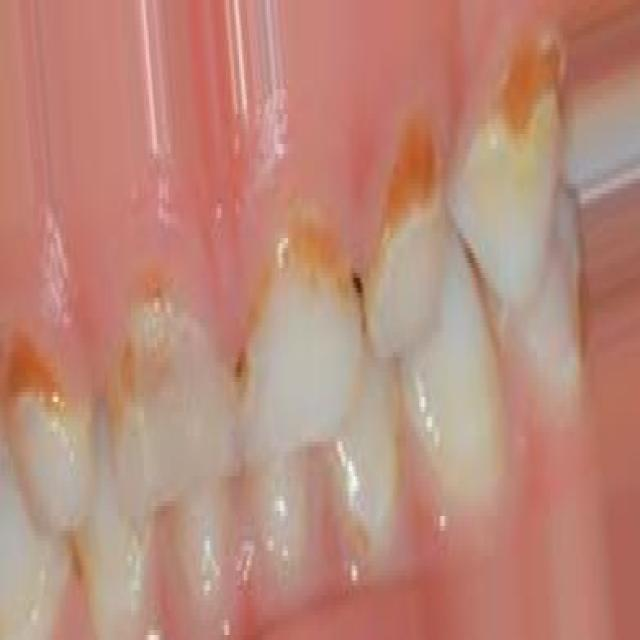caries: (102, 267, 232, 520), (236, 202, 353, 437), (459, 27, 564, 280), (0, 311, 98, 548), (358, 100, 448, 351)
